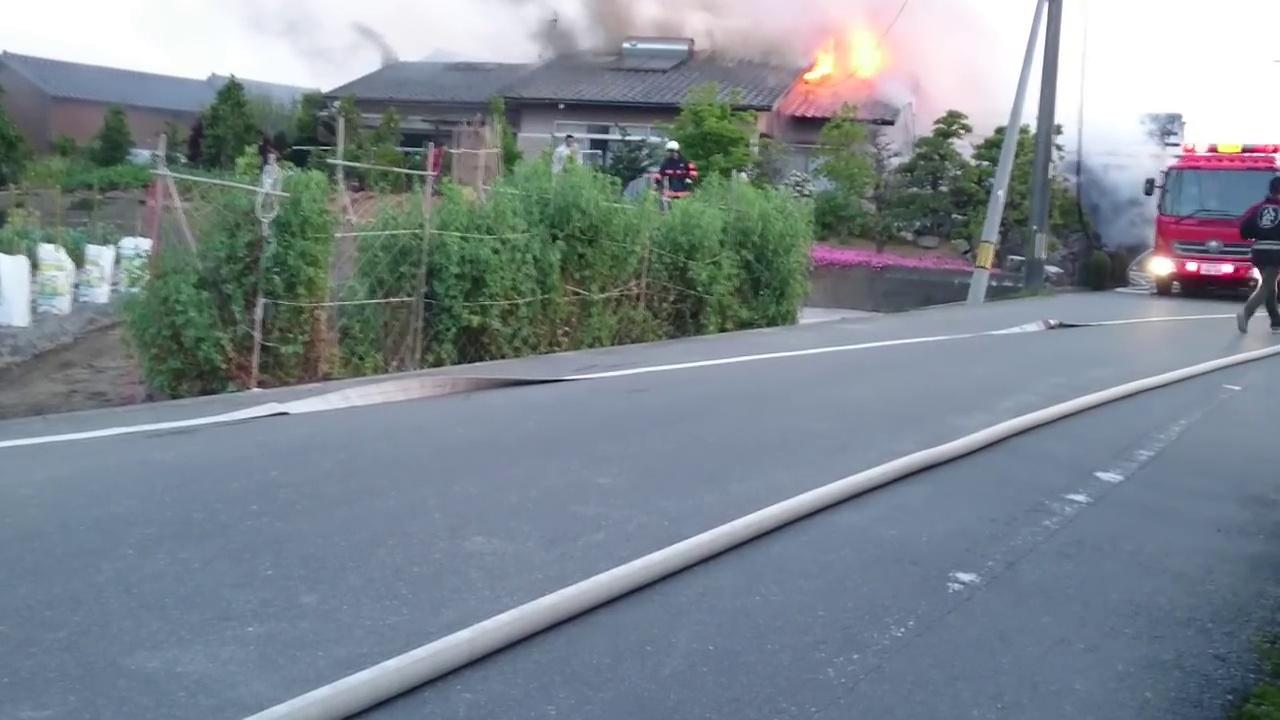fire: (793, 27, 893, 89)
